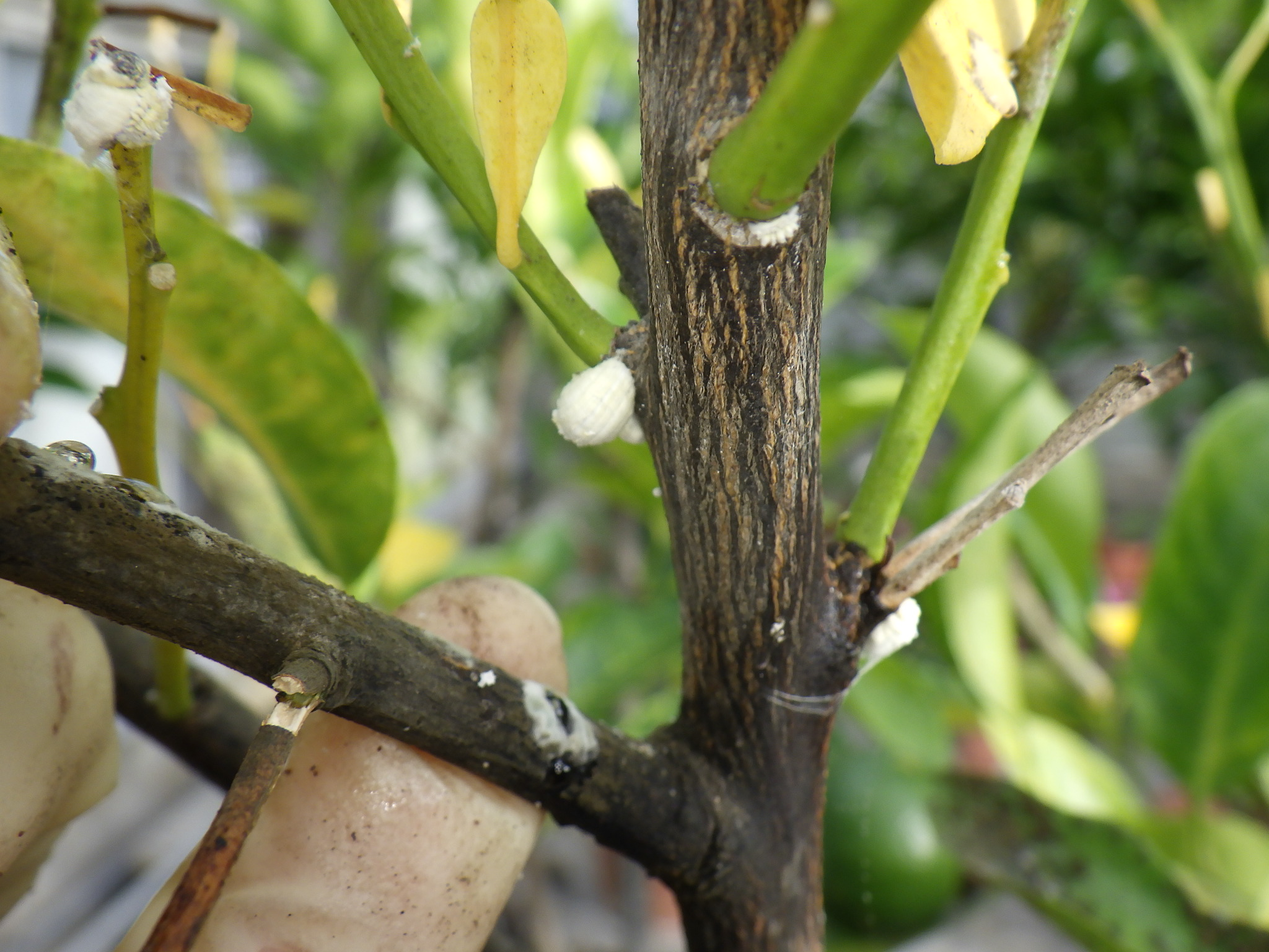Scale_Insect: (63, 52, 169, 164), (552, 358, 634, 446)
